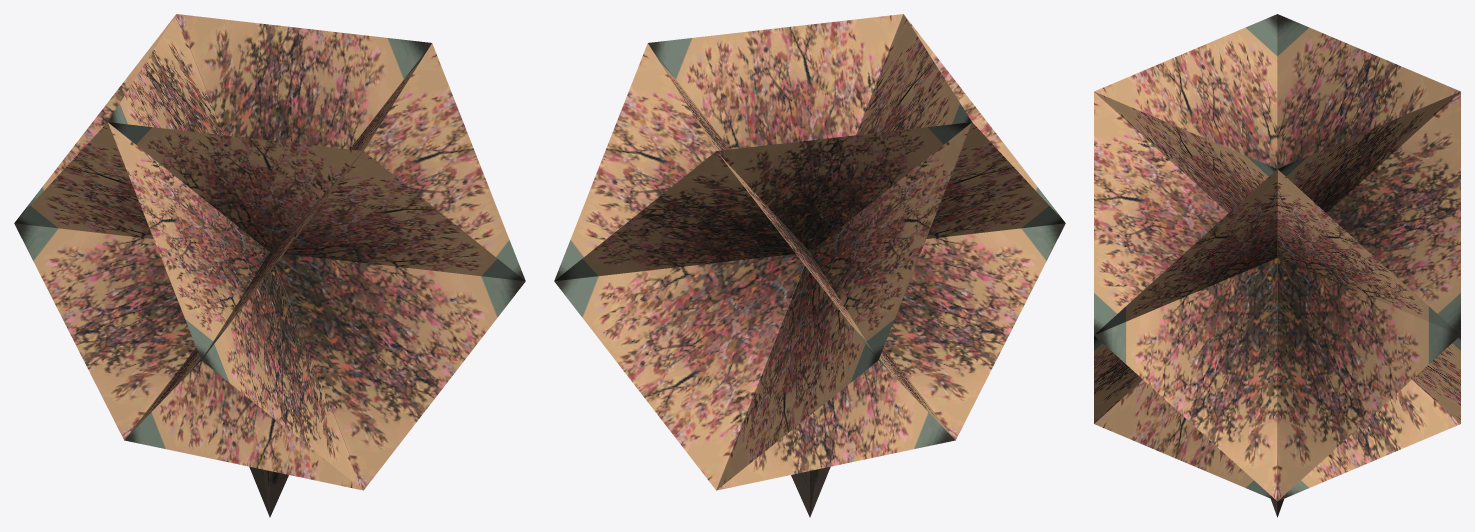
The model's file is decd_lok_mkpud_gray_l1.fbx.
3 views of the same model, side by side, from view 1: azimuth 30°, elevation 25°; view 2: azimuth 150°, elevation 25°; view 3: azimuth 270°, elevation 25° (orthographic). The views are drawn at different scales.
Visible parts, largest first — view 1: mesh_node; view 2: mesh_node; view 3: mesh_node.
Boxes of the visible parts, x1=… form: mesh_node: x1=14, y1=14, x2=525, y2=517; mesh_node: x1=554, y1=14, x2=1065, y2=517; mesh_node: x1=1094, y1=14, x2=1460, y2=517.
Size of the model in its own units: 2.05 by 2.63 by 2.05.
